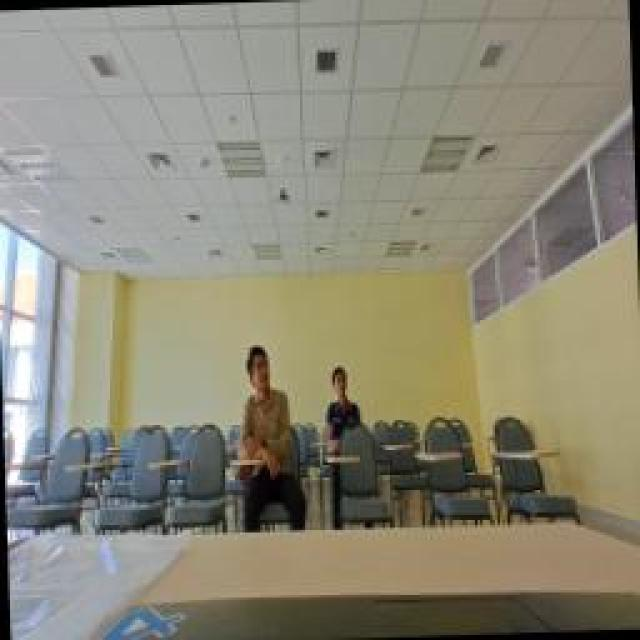study: (232, 345, 310, 530), (318, 360, 362, 455)
